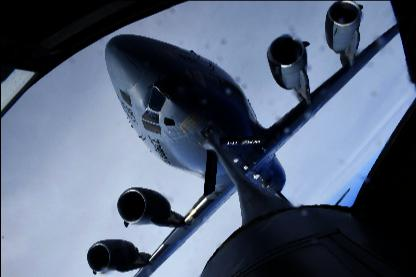C2: (86, 1, 400, 276)
